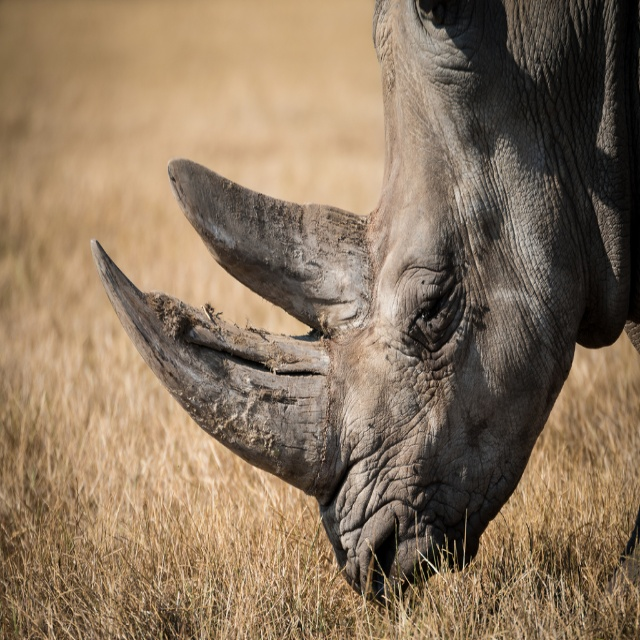Rhinoceros: (88, 0, 640, 612)
